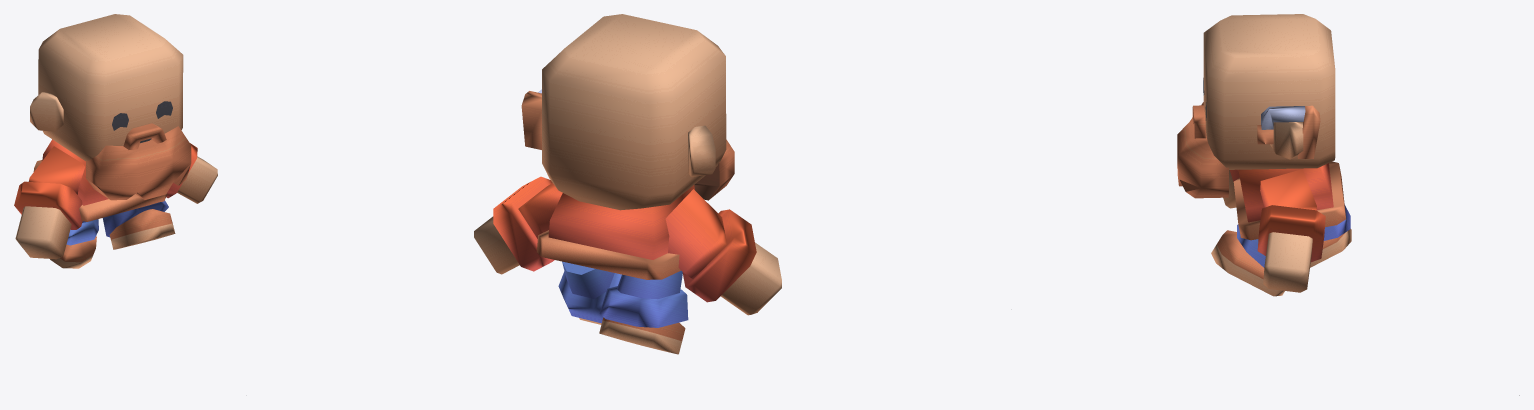
Rendered from rival_sprint_1.glb.
The picture shows the model from 3 angles, left to right: view 1: azimuth 30°, elevation 25°; view 2: azimuth 150°, elevation 25°; view 3: azimuth 270°, elevation 25°; orthographic projection. The views are drawn at different scales.
Visible parts, largest first — view 1: rival-sprint-1; view 2: rival-sprint-1; view 3: rival-sprint-1.
Part boxes in pixels (x1,y1,x2,y2): rival-sprint-1: [14, 14, 217, 268]; rival-sprint-1: [474, 14, 781, 354]; rival-sprint-1: [1177, 14, 1519, 395].
Size of the model in its own units: 1.2 by 0.7201 by 1.2.
Materials: 1 (1 with a texture image).
